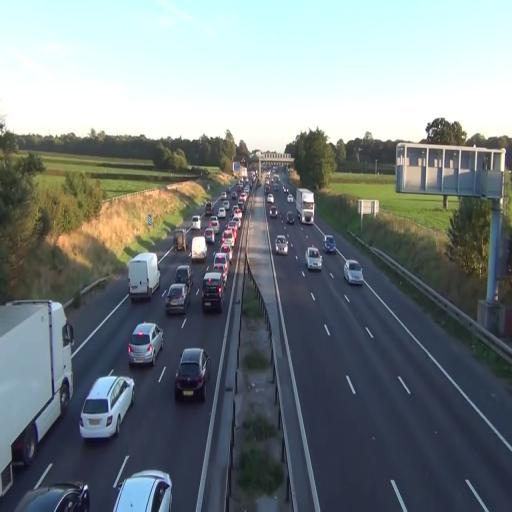vehicle: (0, 299, 75, 499), (79, 374, 135, 440), (9, 470, 91, 512), (113, 468, 172, 512), (11, 481, 90, 511), (174, 347, 208, 400), (128, 252, 160, 304), (128, 322, 163, 366), (201, 269, 224, 315), (164, 281, 188, 317), (296, 188, 315, 224), (297, 188, 315, 224), (343, 260, 364, 285), (190, 235, 208, 262), (304, 246, 322, 270), (274, 233, 290, 255), (324, 234, 336, 254)
